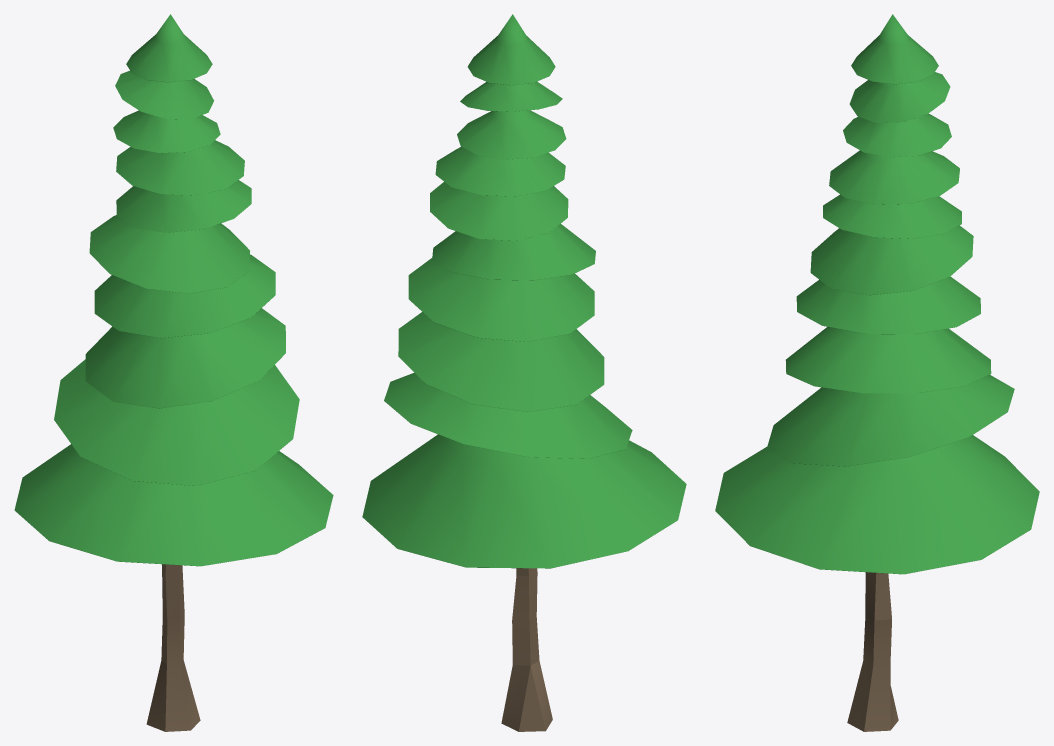
The model's file is pine_h.FBX.
3 views of the same model, side by side, from view 1: azimuth 30°, elevation 25°; view 2: azimuth 150°, elevation 25°; view 3: azimuth 270°, elevation 25° (orthographic).
Visible parts, largest first — view 1: pine_h; view 2: pine_h; view 3: pine_h.
Boxes of the visible parts, bbox=[...] form: pine_h: bbox=[14, 14, 333, 731]; pine_h: bbox=[362, 14, 686, 731]; pine_h: bbox=[715, 14, 1039, 731].
Size of the model in its own units: 2.71 by 6.58 by 2.72.
